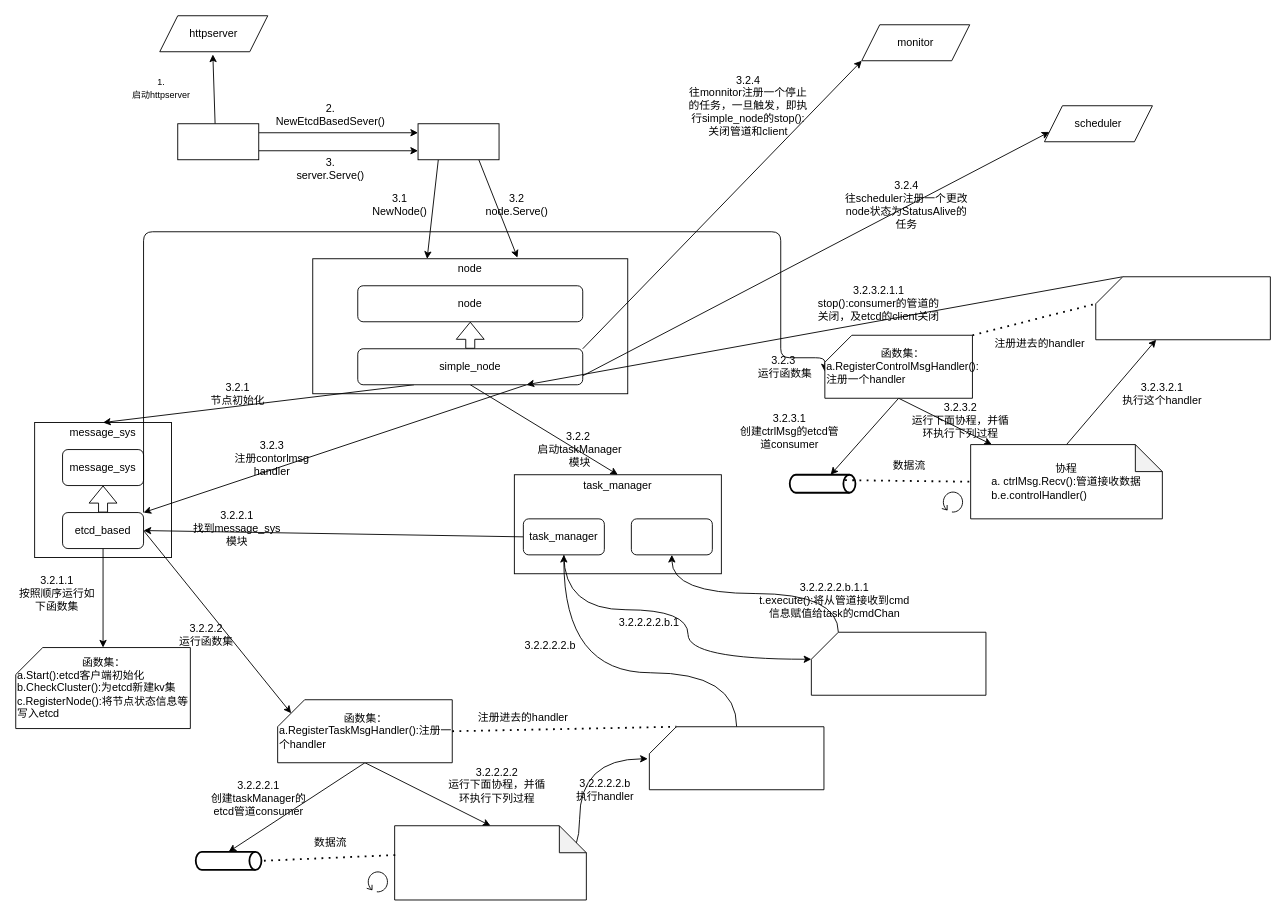
Image size: 1286x916. Some labels were removed from this diagram. Here are the shapes that lost their labels. From the top down, the centre of each, then its label:
point 218,141: main
point 458,141: server
point 1182,308: 函数集： a.node.onControlMsg()
point 671,536: task
point 898,663: 函数集： a.tm.execute()：根据task id获得对应task，后开始执行一个task
point 736,758: 函数集： a.tm.onTaskCmd():简单调用
point 490,862: 协程 a. taskMsgChan.Recv():管道接收数据 b.taskMsgHandler()
